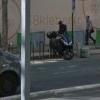Motorcycle: (44, 29, 77, 64)
